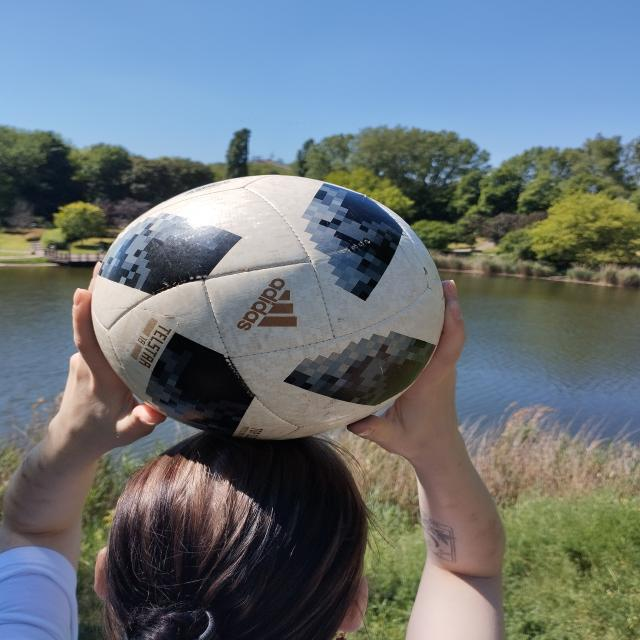nozna: (89, 172, 447, 439)
